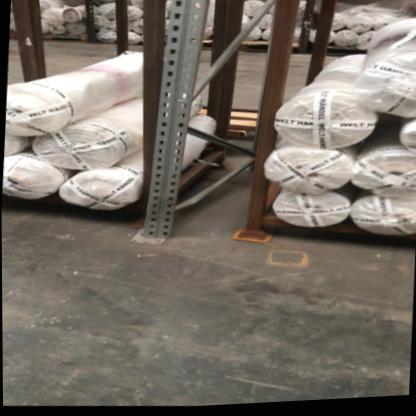vertical_damage: (130, 210, 185, 255)
